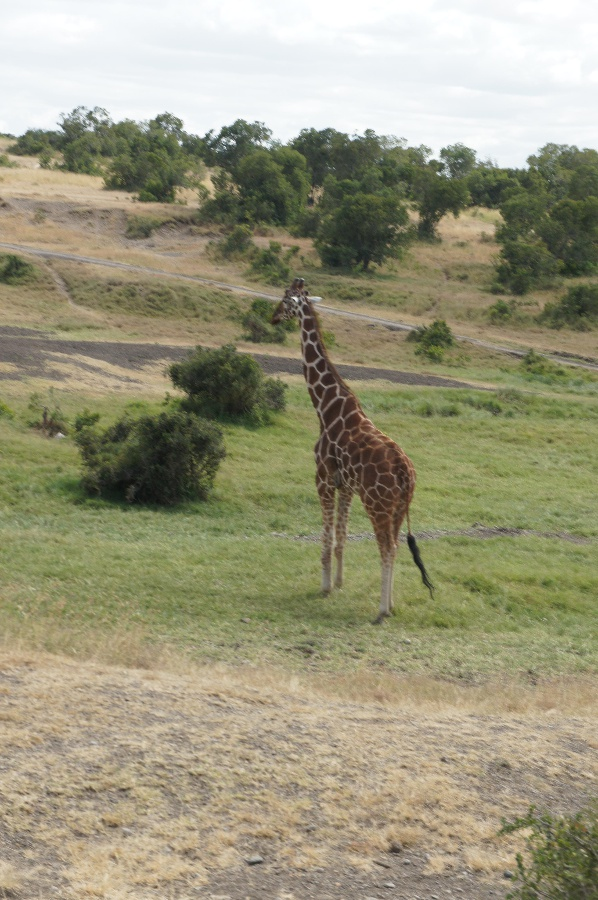giraffe: (265, 271, 439, 630)
